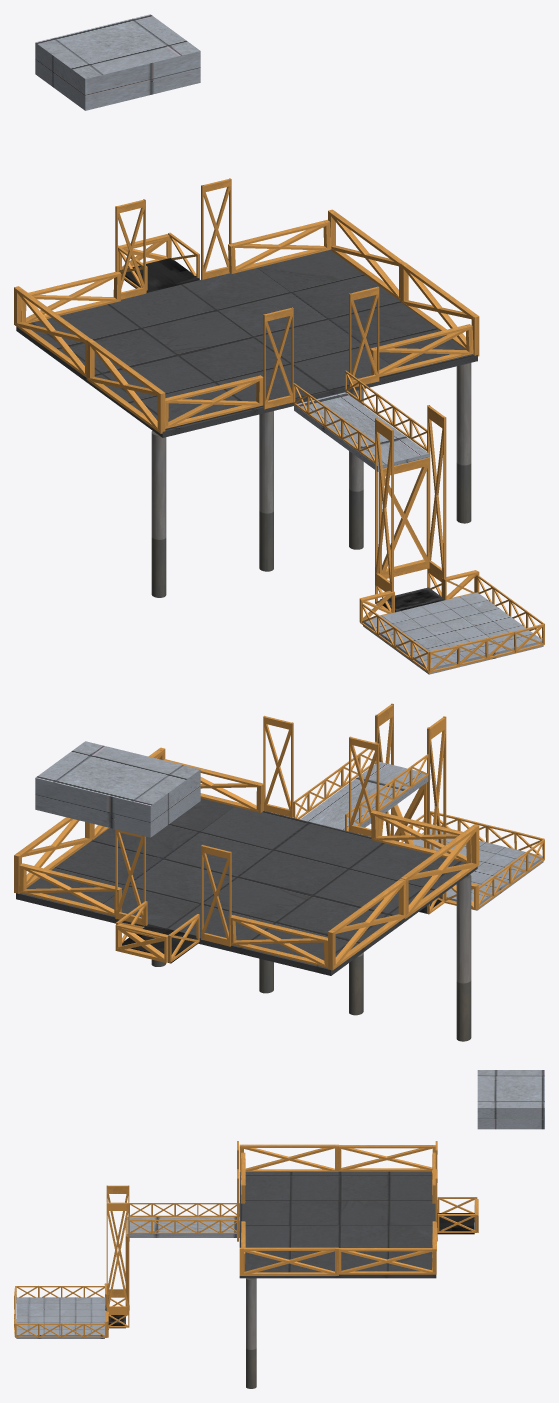
Rendered from Stage1one.fbx.
The picture shows the model from 3 angles, top to bottom: view 1: azimuth 30°, elevation 25°; view 2: azimuth 150°, elevation 25°; view 3: azimuth 270°, elevation 25°; orthographic projection. The views are drawn at different scales.
Parts seen in each view (by area): view 1: 立方体.013, 立方体.030, 立方体, 円柱.004, 立方体.021, 立方体.015, 立方体.022, 立方体.024, 立方体.026, 円柱.003, 立方体.012, 立方体.023 (+7 smaller); view 2: 立方体.013, 立方体.030, 立方体.022, 立方体.026, 立方体.024, 立方体.012, 立方体.023, 立方体.025, 立方体.021, 円柱.004, 立方体.015, 立方体 (+11 smaller); view 3: 立方体.013, 立方体.030, 立方体, 立方体.021, 立方体.022, 立方体.015, 立方体.012, 円柱.004, 立方体.028, 立方体.027, 立方体.024, 立方体.019 (+3 smaller).
Part boxes in pixels (x1,y1,x2,y2): 立方体.013: [16, 250, 477, 437]; 立方体.030: [35, 14, 200, 110]; 立方体: [363, 592, 543, 674]; 円柱.004: [151, 363, 471, 597]; 立方体.021: [86, 262, 479, 433]; 立方体.015: [375, 405, 446, 596]; 立方体.022: [14, 209, 404, 377]; 立方体.024: [165, 324, 473, 428]; 立方体.026: [21, 219, 331, 323]; 円柱.003: [259, 389, 363, 571]; 立方体.012: [294, 392, 429, 471]; 立方体.023: [263, 286, 379, 409]; 立方体.013: [16, 798, 477, 975]; 立方体.030: [35, 741, 200, 837]; 立方体.022: [14, 817, 406, 970]; 立方体.026: [19, 863, 327, 967]; 立方体.024: [163, 759, 471, 863]; 立方体.012: [300, 761, 430, 830]; 立方体.023: [263, 715, 379, 836]; 立方体.025: [115, 829, 231, 946]; 立方体.021: [91, 747, 479, 918]; 円柱.004: [151, 874, 471, 1041]; 立方体.015: [375, 703, 446, 852]; 立方体: [412, 829, 543, 910]; 立方体.013: [239, 1171, 436, 1278]; 立方体.030: [477, 1070, 544, 1129]; 立方体: [16, 1297, 104, 1338]; 立方体.021: [239, 1144, 338, 1275]; 立方体.022: [337, 1145, 436, 1274]; 立方体.015: [106, 1185, 129, 1314]; 立方体.012: [126, 1217, 239, 1237]; 円柱.004: [246, 1278, 256, 1388]; 立方体.028: [437, 1197, 477, 1232]; 立方体.027: [437, 1213, 474, 1234]; 立方体.024: [240, 1152, 245, 1271]; 立方体.019: [197, 1203, 220, 1233].
Size of the model in its own units: 11133 by 12310 by 23884.
